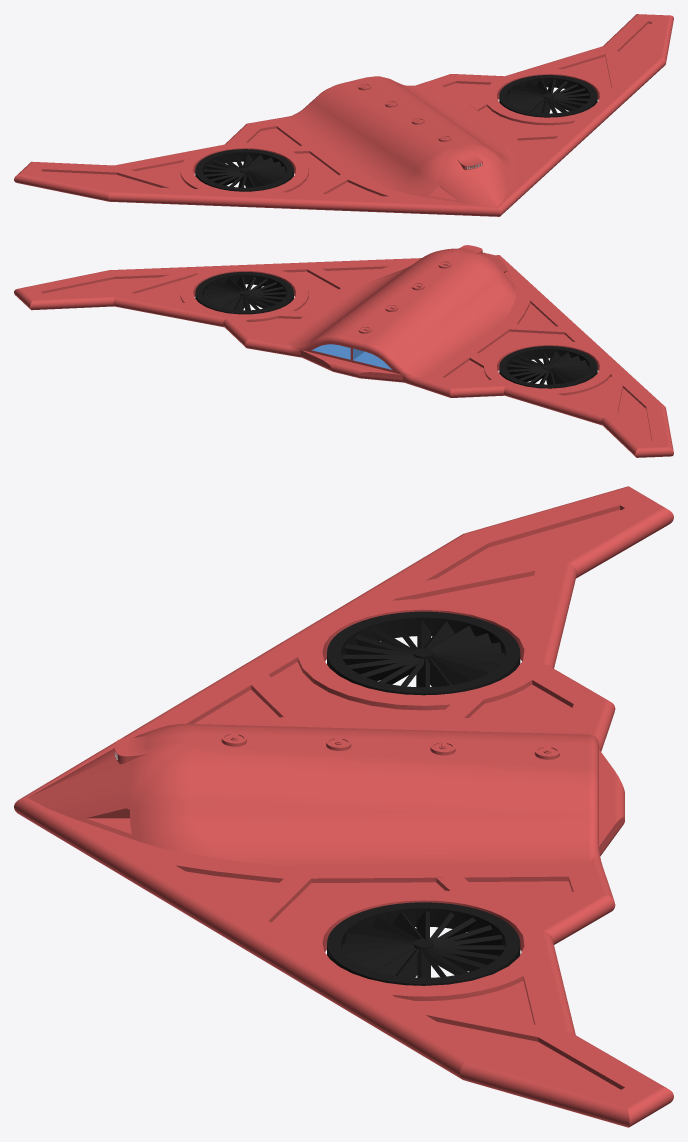
Rendered from The_requiem.fbx.
3 views of the same model, one above another, from view 1: azimuth 30°, elevation 25°; view 2: azimuth 150°, elevation 25°; view 3: azimuth 270°, elevation 25° (orthographic). The views are drawn at different scales.
Parts seen in each view (by area): view 1: Body1, Body3, Body5, Body2, Body4; view 2: Body1, Body3, Body5, Body2, Body4; view 3: Body1, Body3, Body5, Body2, Body4.
Part boxes in pixels (bbox=[...]): Body1: bbox=[14, 14, 673, 216]; Body3: bbox=[203, 153, 285, 187]; Body5: bbox=[507, 79, 589, 113]; Body2: bbox=[195, 149, 293, 191]; Body4: bbox=[499, 75, 597, 117]; Body1: bbox=[14, 245, 673, 457]; Body3: bbox=[507, 350, 589, 384]; Body5: bbox=[203, 276, 285, 310]; Body2: bbox=[499, 346, 597, 388]; Body4: bbox=[195, 272, 293, 314]; Body1: bbox=[14, 486, 673, 1127]; Body3: bbox=[342, 620, 504, 687]; Body5: bbox=[342, 910, 504, 977]; Body2: bbox=[327, 611, 520, 695]; Body4: bbox=[327, 902, 520, 985].
Bounding box in the file's own units: 296 × 17.24 × 130.
